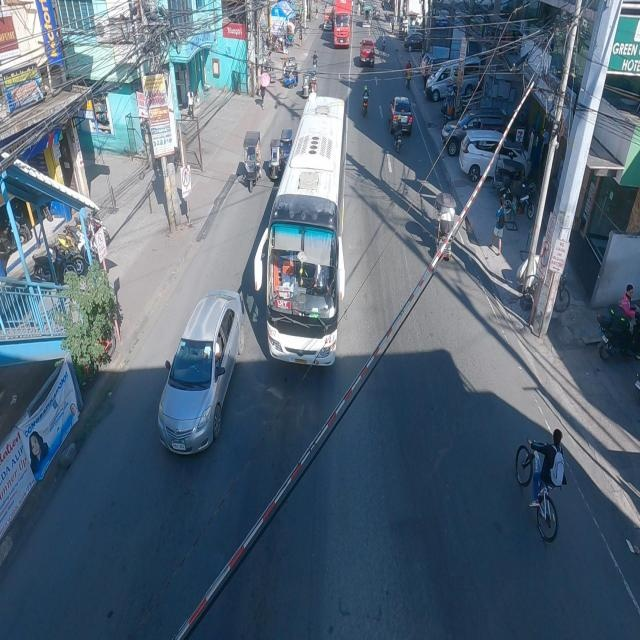Bus: (262, 90, 344, 364)
